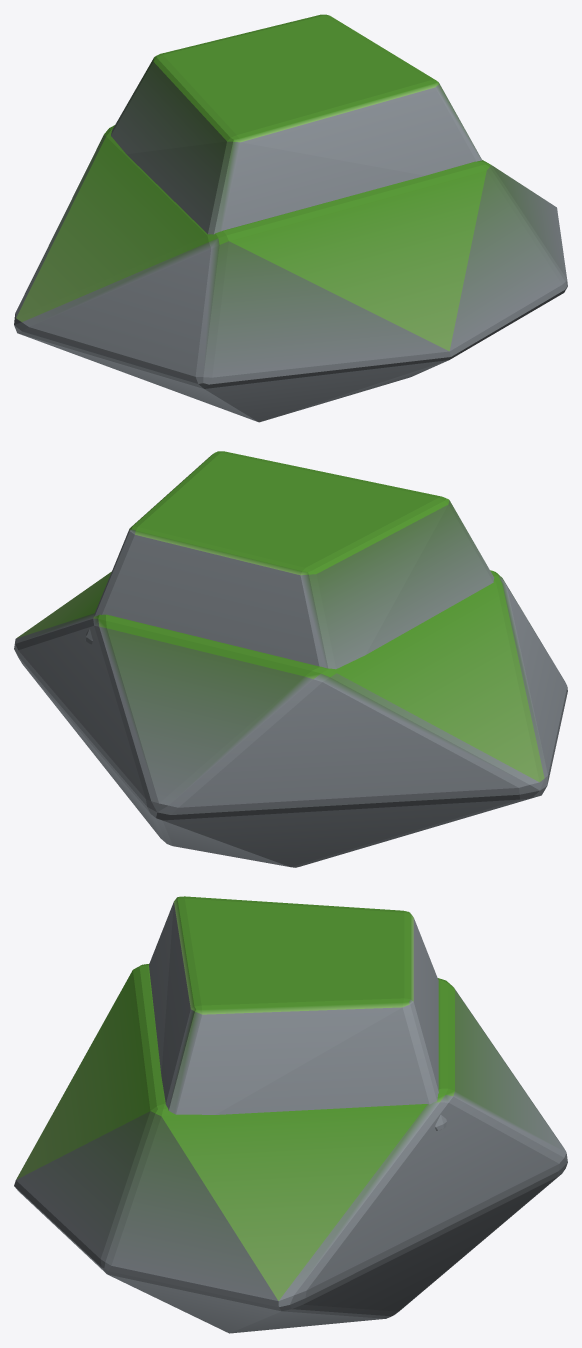
Rendered from Rock_Platform_Sharp_01.fbx.
3 renders of one model, top to bottom at view 1: azimuth 30°, elevation 25°; view 2: azimuth 150°, elevation 25°; view 3: azimuth 270°, elevation 25°, orthographic. The views are drawn at different scales.
Parts seen in each view (by area): view 1: Rock_Platform_Sharp_01; view 2: Rock_Platform_Sharp_01; view 3: Rock_Platform_Sharp_01.
Boxes of the visible parts, x1,y1,x2,y2 form: Rock_Platform_Sharp_01: (14, 14, 567, 422); Rock_Platform_Sharp_01: (14, 451, 567, 867); Rock_Platform_Sharp_01: (14, 896, 567, 1333).
Size of the model in its own units: 360 by 217 by 303.
